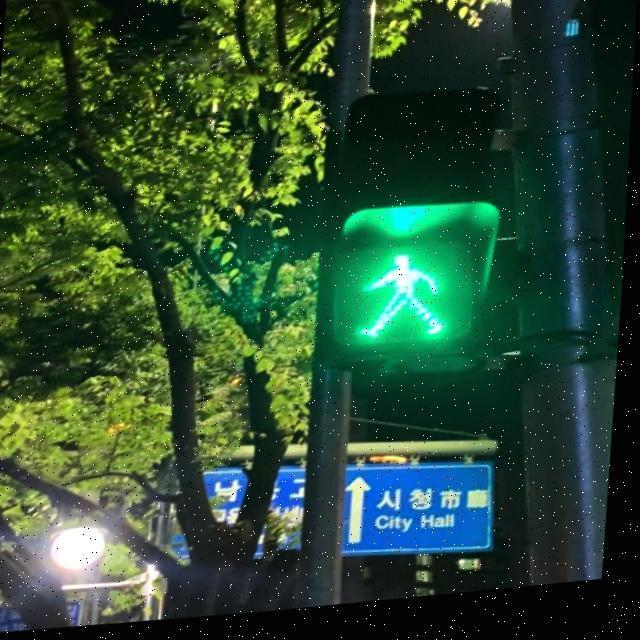greenlight: (336, 100, 494, 361)
